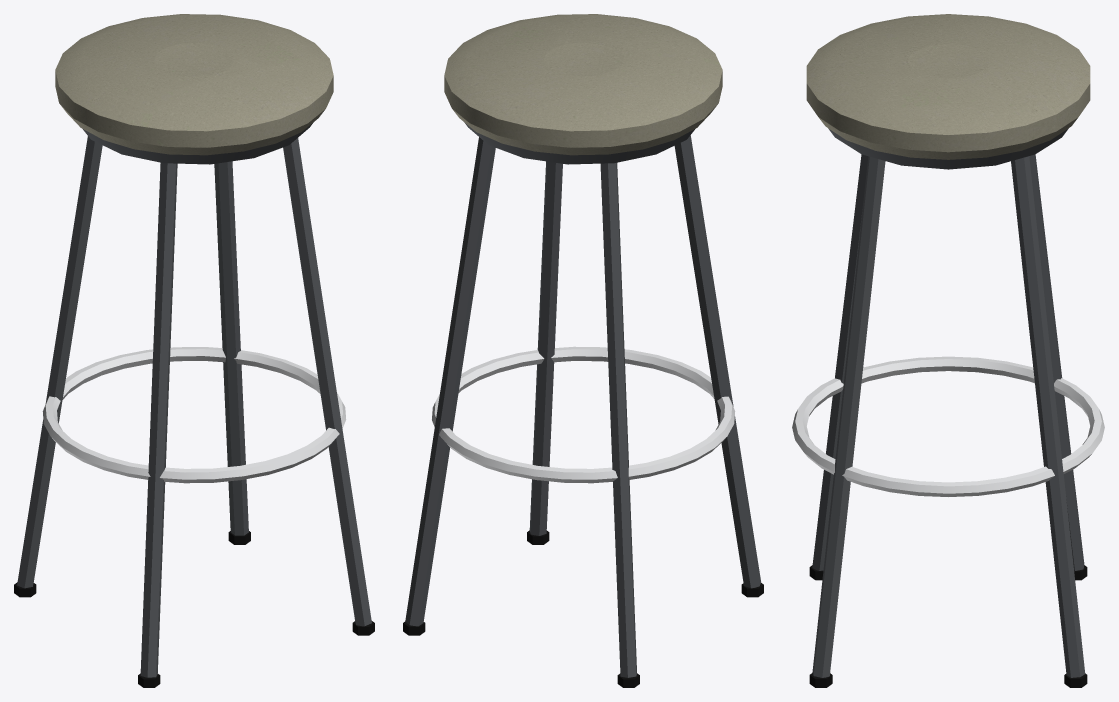
File: leather_white.glb
3 views of the same model, side by side, from view 1: azimuth 30°, elevation 25°; view 2: azimuth 150°, elevation 25°; view 3: azimuth 270°, elevation 25° (orthographic). The views are drawn at different scales.
Parts seen in each view (by area): view 1: leather_white; view 2: leather_white; view 3: leather_white.
Part boxes in pixels (x1=…): leather_white: x1=14, y1=14, x2=374, y2=687; leather_white: x1=403, y1=14, x2=763, y2=687; leather_white: x1=792, y1=14, x2=1104, y2=687.
Bounding box in the file's own units: 0.3818 × 0.766 × 0.3819.
4 materials, 1 textured.
